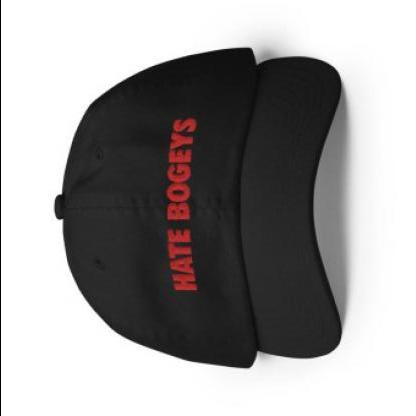cap: (46, 37, 348, 373)
